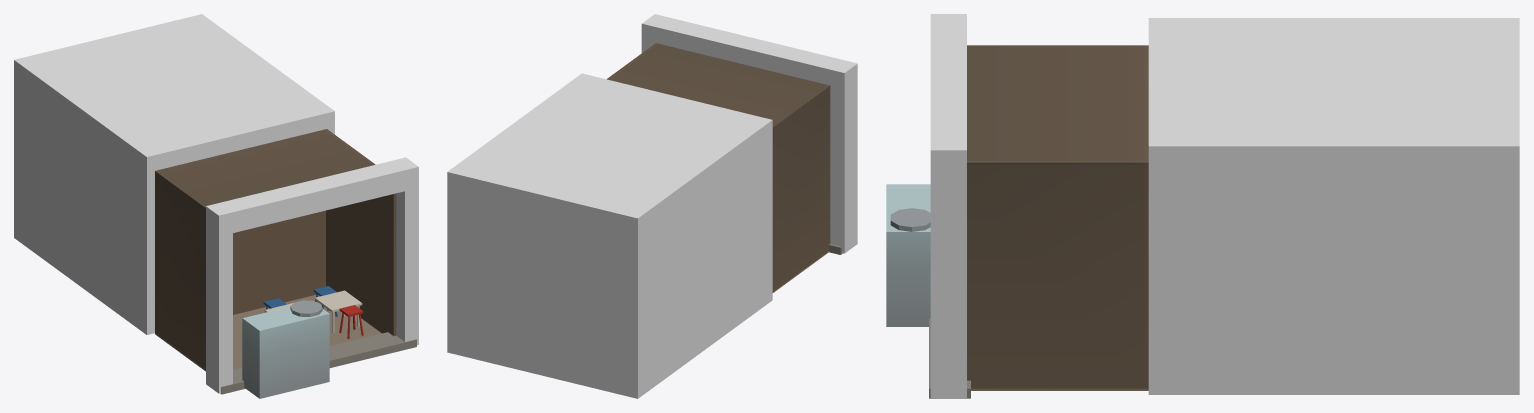
File: tret_quan_pho_40.glb
3 views of the same model, side by side, from view 1: azimuth 30°, elevation 25°; view 2: azimuth 150°, elevation 25°; view 3: azimuth 270°, elevation 25° (orthographic). The views are drawn at different scales.
Visible parts, largest first — view 1: tret_quan_pho_40; view 2: tret_quan_pho_40; view 3: tret_quan_pho_40.
Boxes of the visible parts, x1=… form: tret_quan_pho_40: x1=14, y1=14, x2=418, y2=398; tret_quan_pho_40: x1=447, y1=14, x2=857, y2=398; tret_quan_pho_40: x1=886, y1=14, x2=1519, y2=398.
Bounding box in the file's own units: 4 × 3.42 × 7.85.
